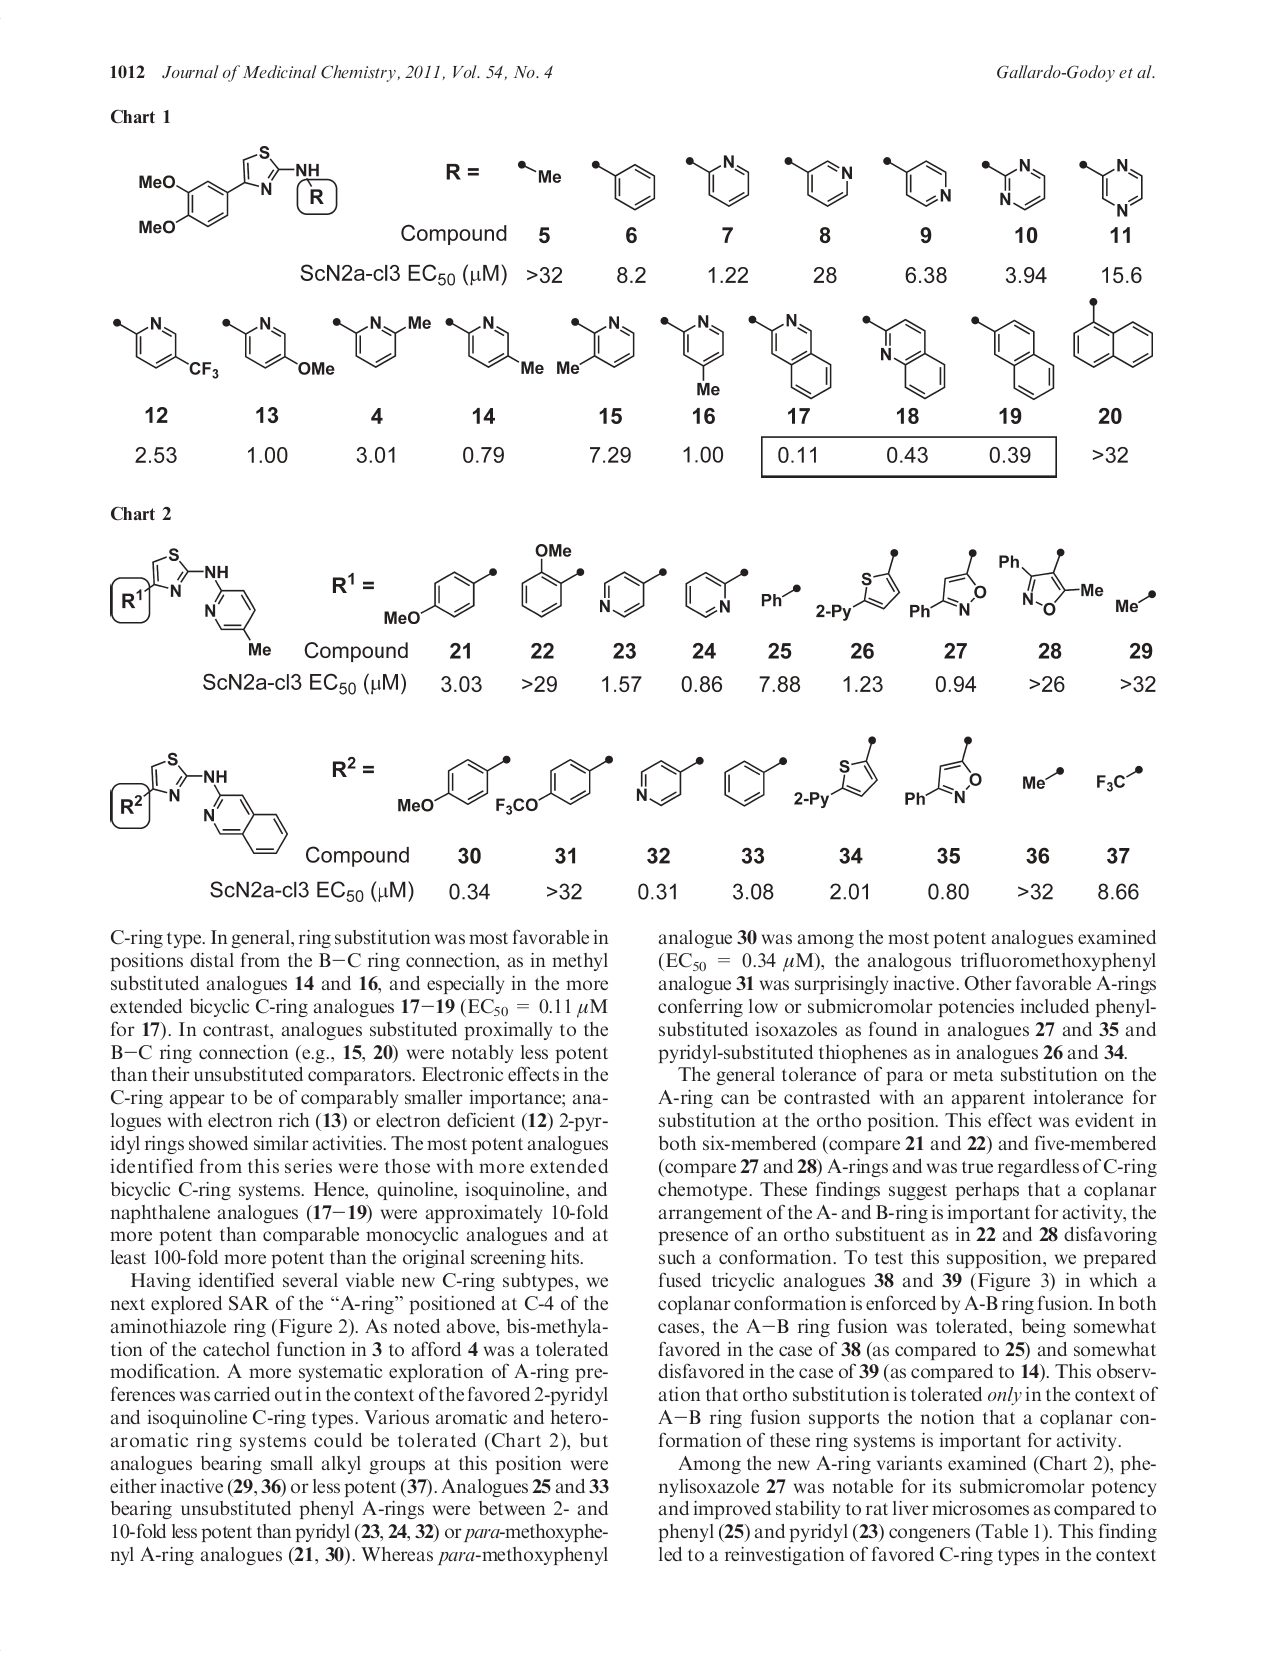exist_molecular: (128, 141, 348, 243), (108, 540, 277, 664), (106, 747, 289, 858), (856, 305, 952, 406), (969, 302, 1059, 400), (382, 557, 501, 630), (493, 745, 614, 815), (109, 309, 222, 383), (747, 309, 835, 403), (221, 309, 336, 378), (1069, 290, 1164, 374), (396, 747, 511, 817), (996, 545, 1105, 617), (656, 306, 735, 402), (442, 310, 544, 380), (791, 733, 882, 811), (327, 303, 434, 368), (815, 545, 903, 624), (512, 535, 586, 622), (907, 544, 988, 622), (676, 142, 761, 217), (902, 731, 981, 809), (777, 142, 860, 215), (1071, 144, 1149, 219), (553, 310, 638, 376), (581, 150, 661, 221), (976, 148, 1056, 217), (879, 146, 956, 213), (596, 559, 668, 620), (719, 747, 787, 810), (681, 563, 750, 622), (633, 754, 703, 809)
